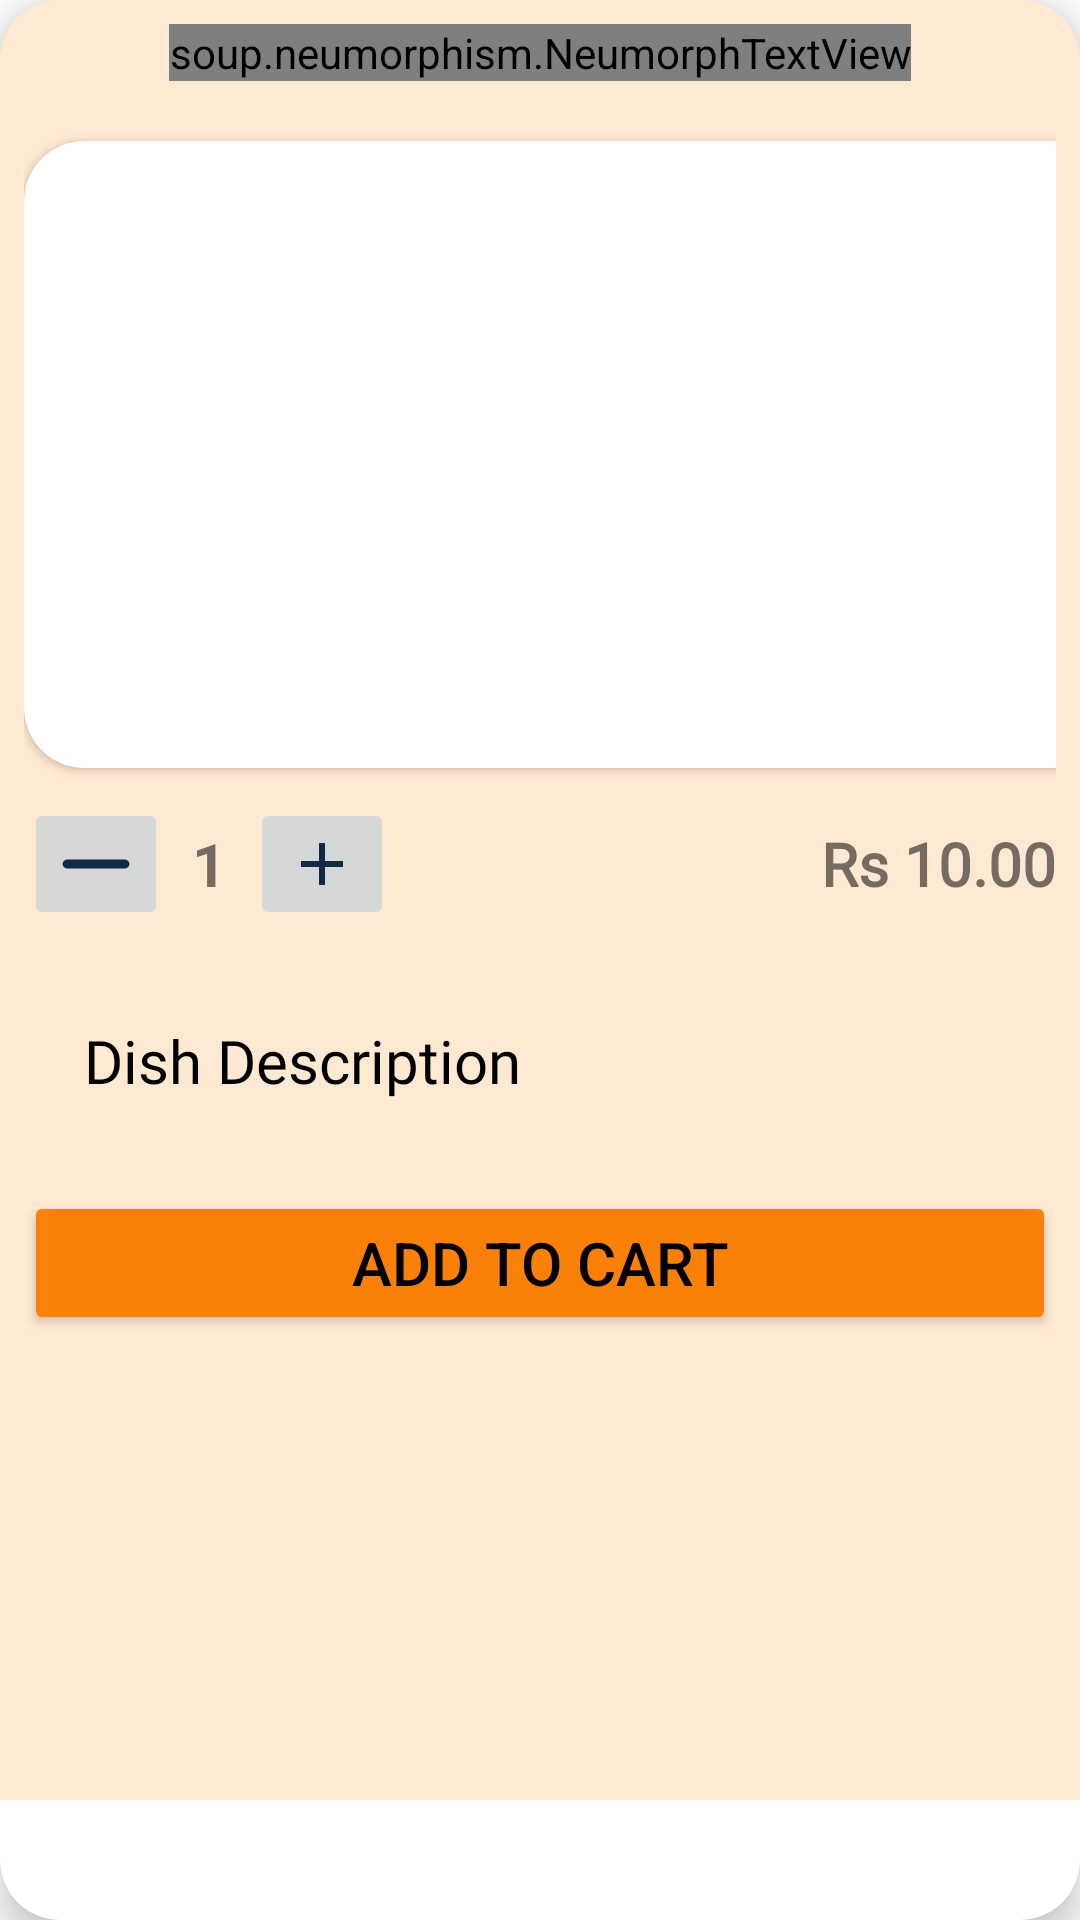

Named icons in this screenshot (1080w x 1920h) and their bounding boxes, (x1, y1, x2, y2):
add: (262, 816, 382, 912)
minus: (36, 816, 156, 912)
